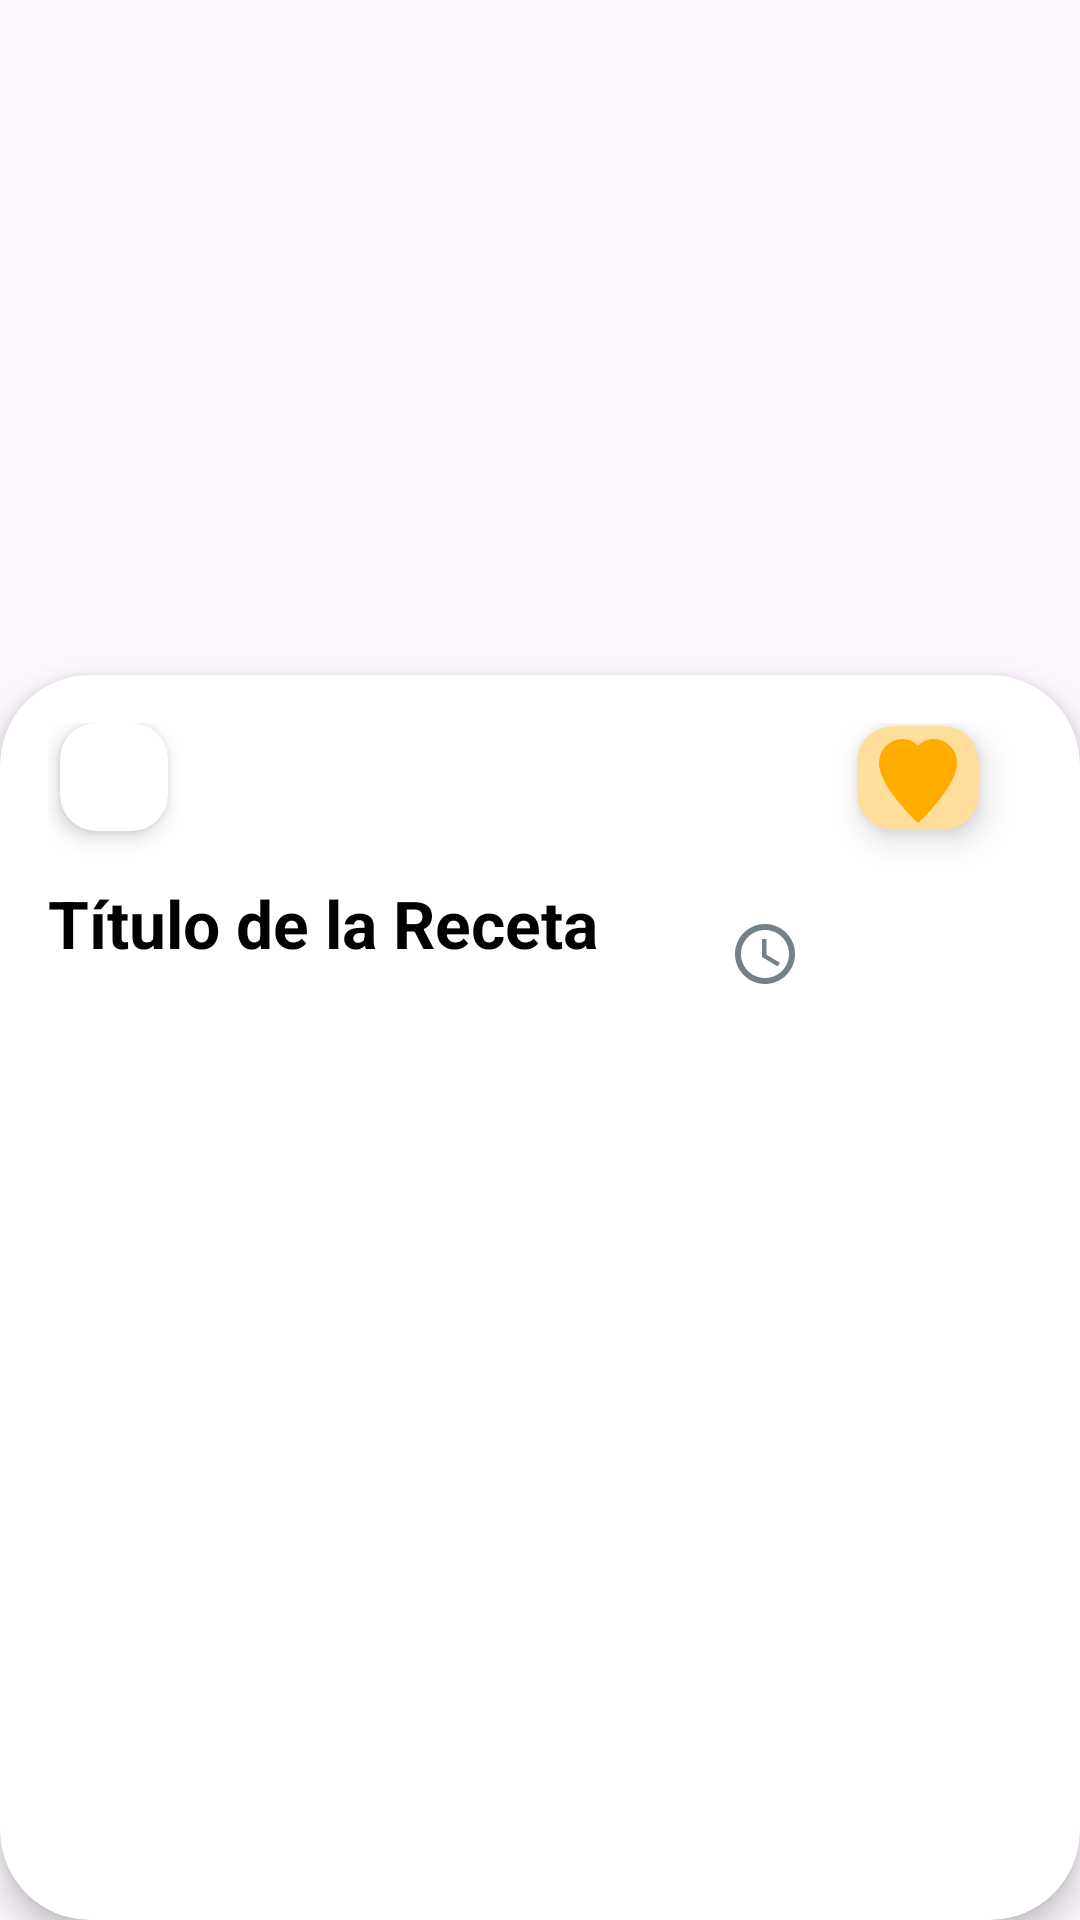

Icons on this 1080 x 1920 Android screen, each with the point to tap as (x,y):
avd heart: (918,778)
